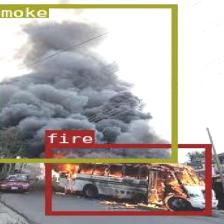fire: (45, 144, 210, 215)
smoke: (0, 4, 175, 161)
